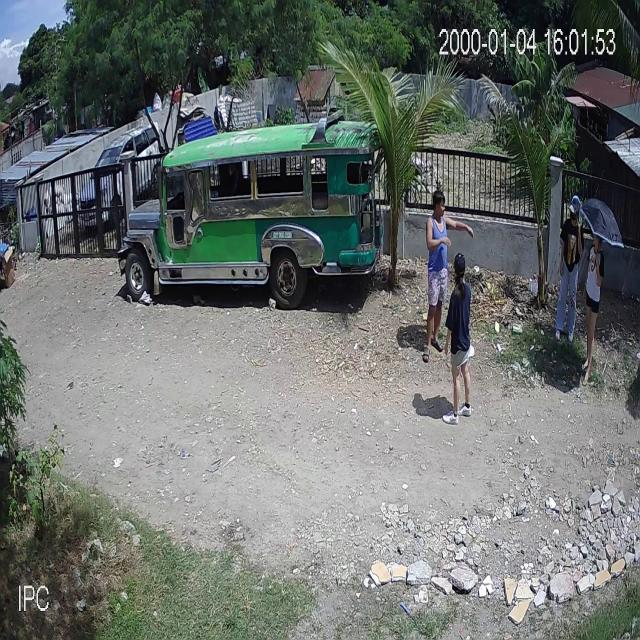standing: (420, 188, 472, 362), (441, 251, 474, 426), (554, 194, 586, 344), (580, 233, 608, 390)
